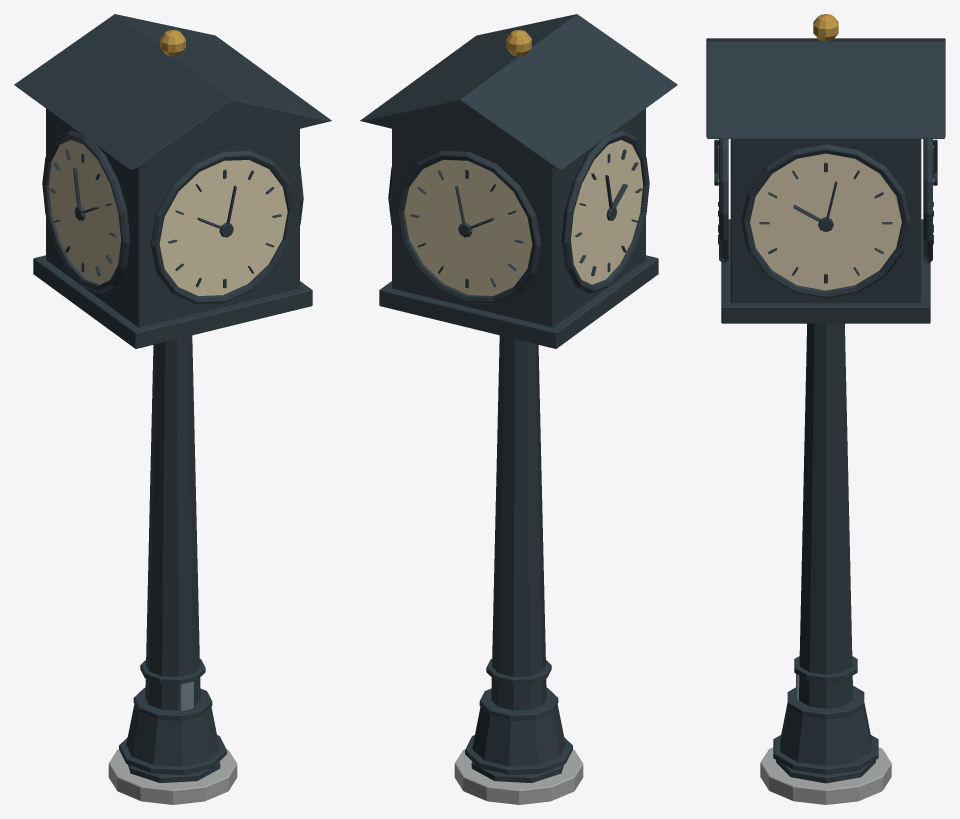
Rendered from b18_four_face_town_clock.glb.
3 renders of one model, left to right at view 1: azimuth 30°, elevation 25°; view 2: azimuth 150°, elevation 25°; view 3: azimuth 270°, elevation 25°, orthographic. The views are drawn at different scales.
Parts seen in each view (by area): view 1: b18_four_face_town_clock; view 2: b18_four_face_town_clock; view 3: b18_four_face_town_clock.
Boxes of the visible parts, <box> form: b18_four_face_town_clock: <box>14,14,331,804</box>; b18_four_face_town_clock: <box>360,14,677,804</box>; b18_four_face_town_clock: <box>706,14,945,804</box>.
Size of the model in its own units: 1.27 by 4.51 by 1.28.
